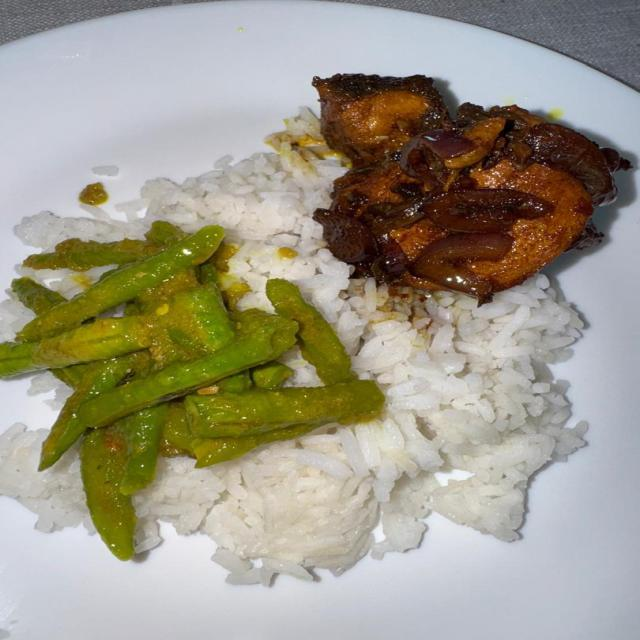Chicken: (321, 78, 622, 296)
Plate: (3, 173, 639, 639)
Rice: (27, 108, 584, 579)
Vegetables: (3, 222, 390, 559)
